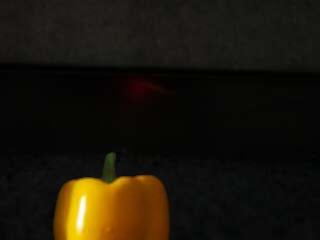Capsicum: (52, 151, 174, 240)
